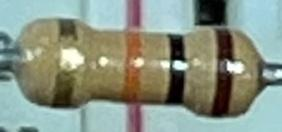Black: (162, 34, 187, 106)
Brown: (210, 26, 235, 118)
Orange: (120, 31, 141, 103)
Side-Gold: (48, 14, 79, 109)
